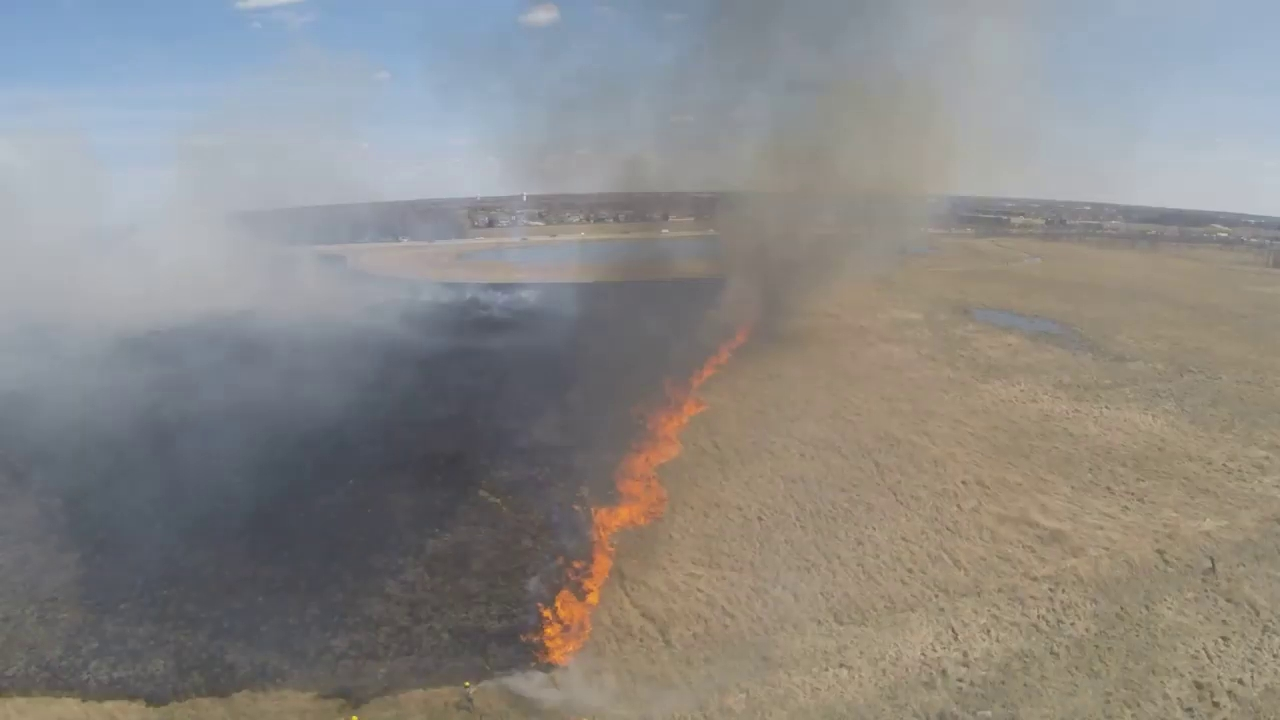forest_fire: (528, 325, 749, 665)
